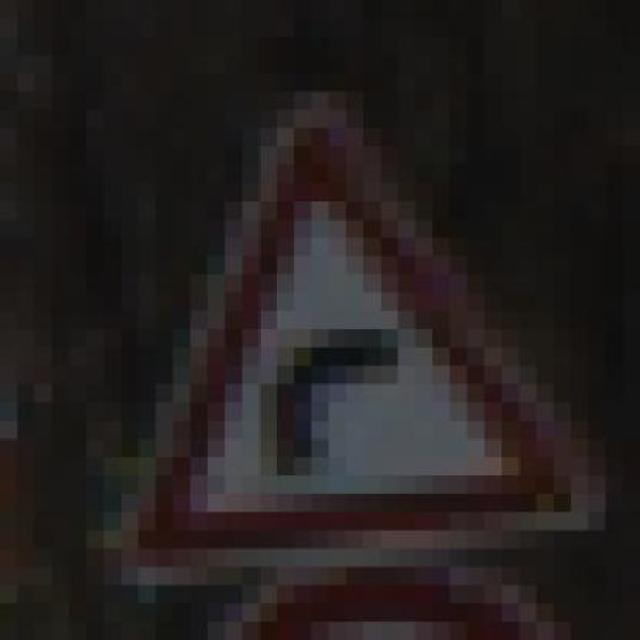Dangerous Rright Curve Ahead: (86, 110, 606, 567)
